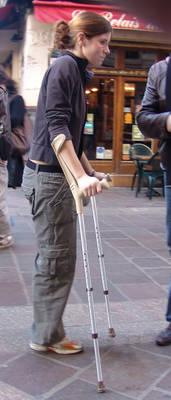crutches: (21, 12, 116, 393)
